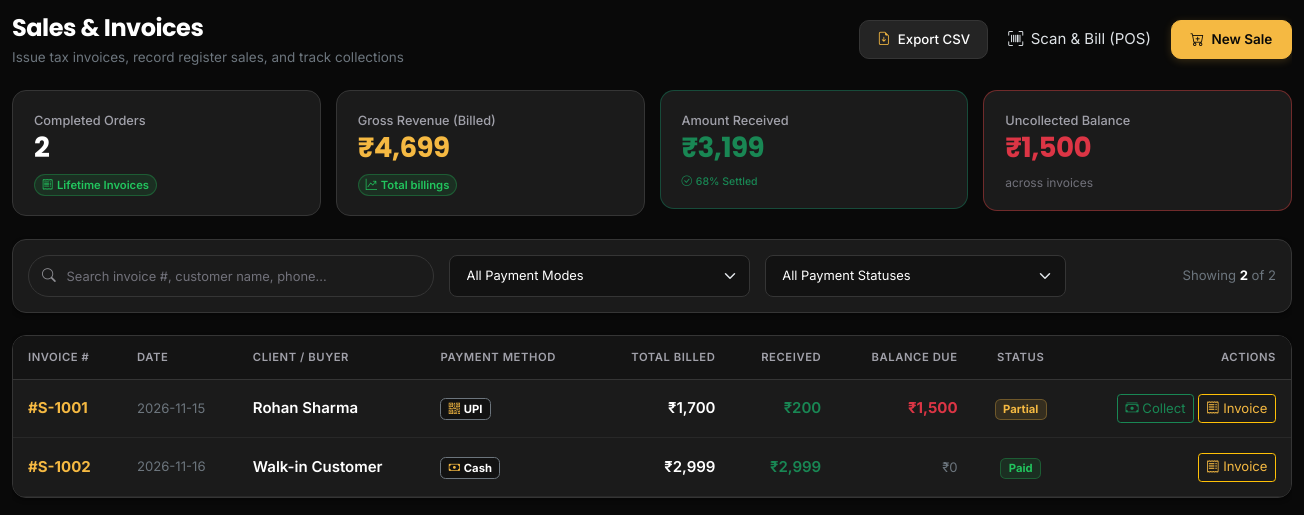
Test: Integration — Sales & POS Invoicing Workflow › filters invoices when searching by invoice ID or customer name
Type "S-1001" into the field with placeholder "Search invoice #, customer name, phone...".
click(231, 276); type("S-1001")  # box [28,255,434,297]
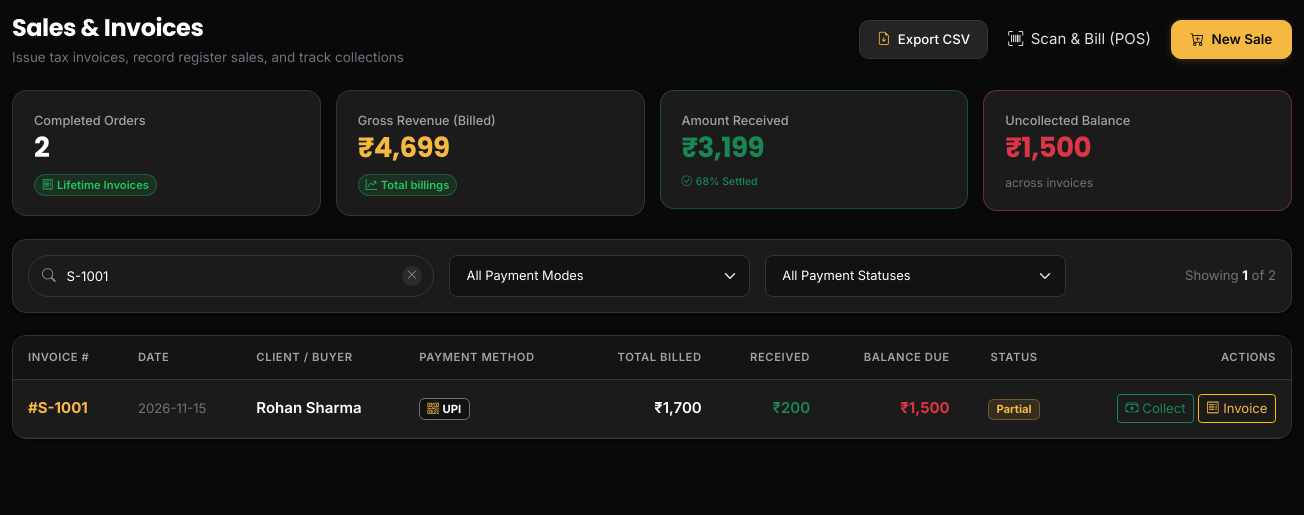
Expected: the text "#S-1001" is shown, [28,398,88,417]
Expected: the text "S-1002" is gone
